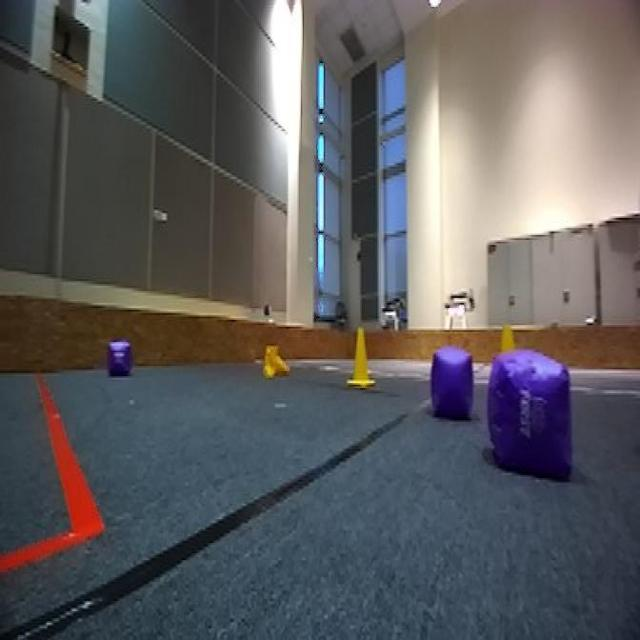frc_cone: (345, 325, 375, 392), (260, 342, 290, 378)
frc_cube: (485, 349, 576, 478), (427, 342, 479, 417), (105, 338, 133, 384)
